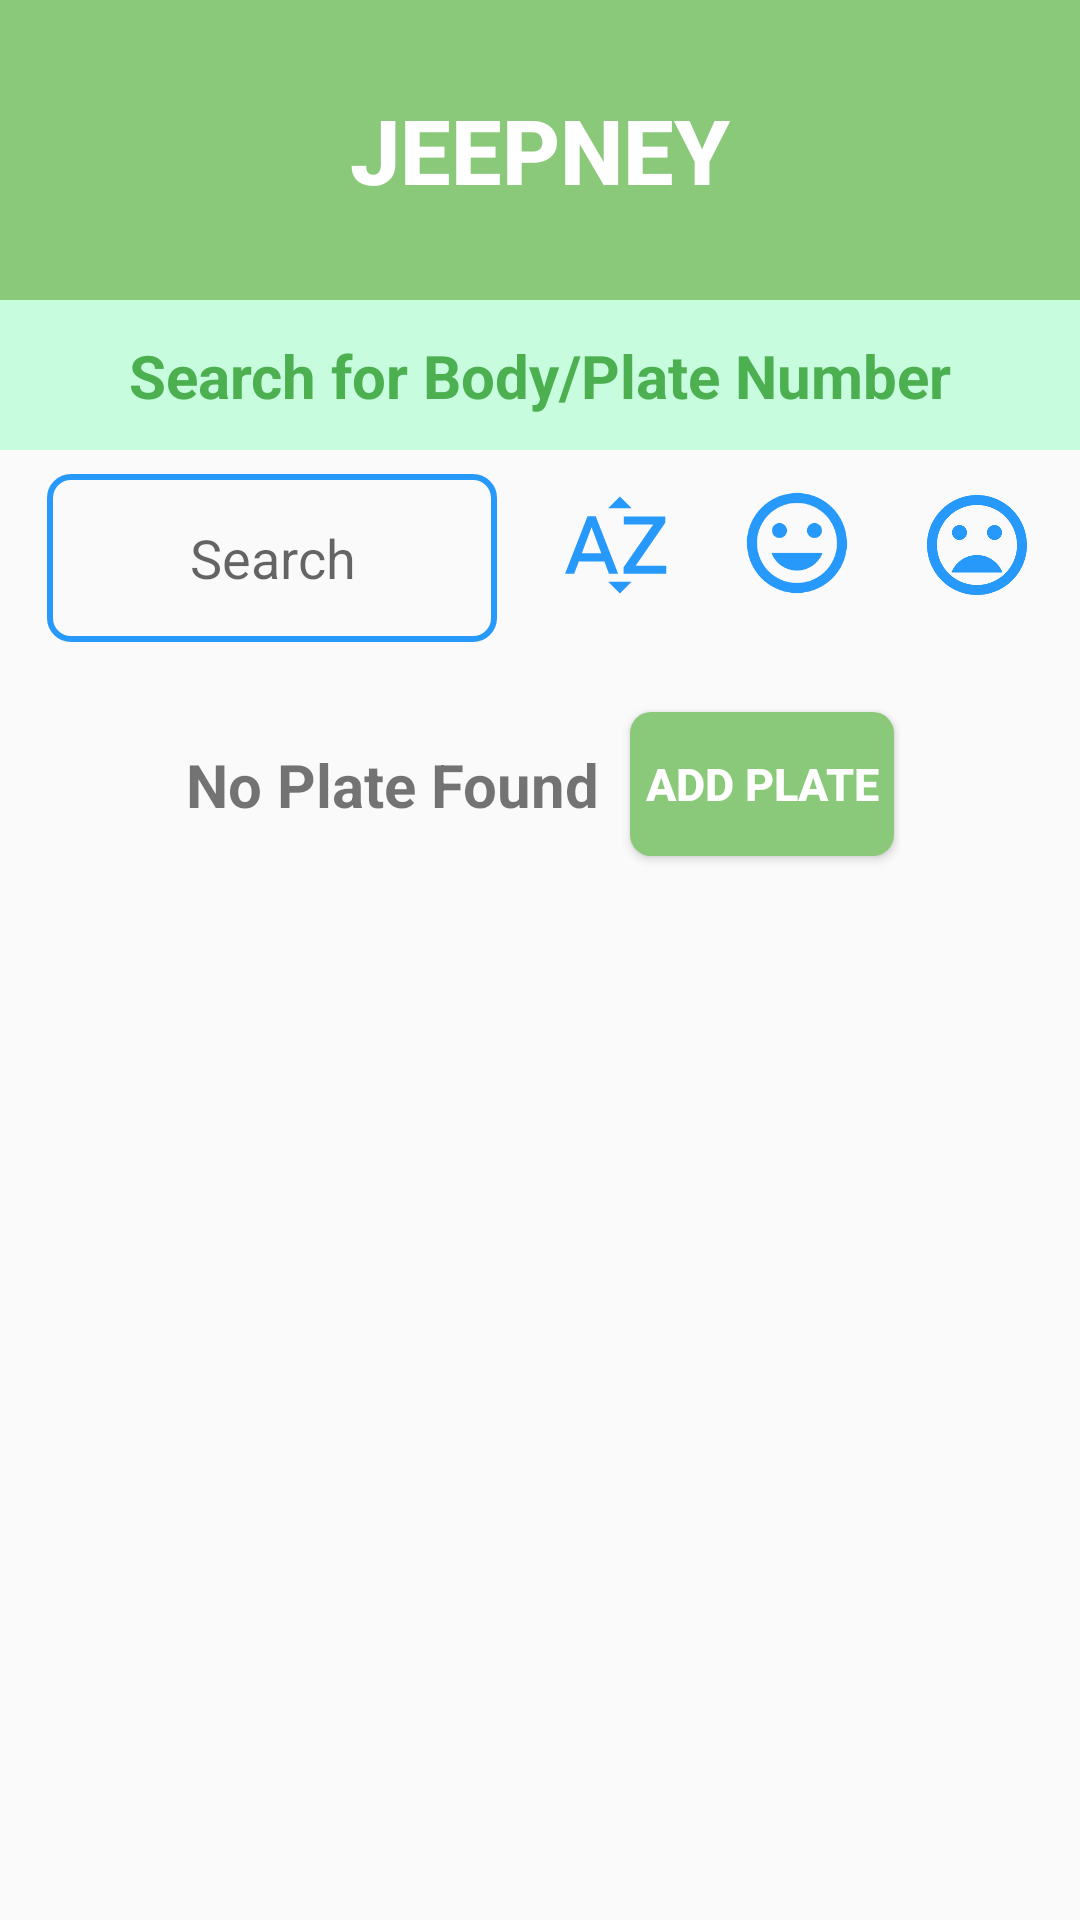

Named icons in this screenshot (1080×1920) and their centers, point (x, y):
mood: point (796, 543)
mood bad: point (977, 545)
sort by: point (616, 545)
